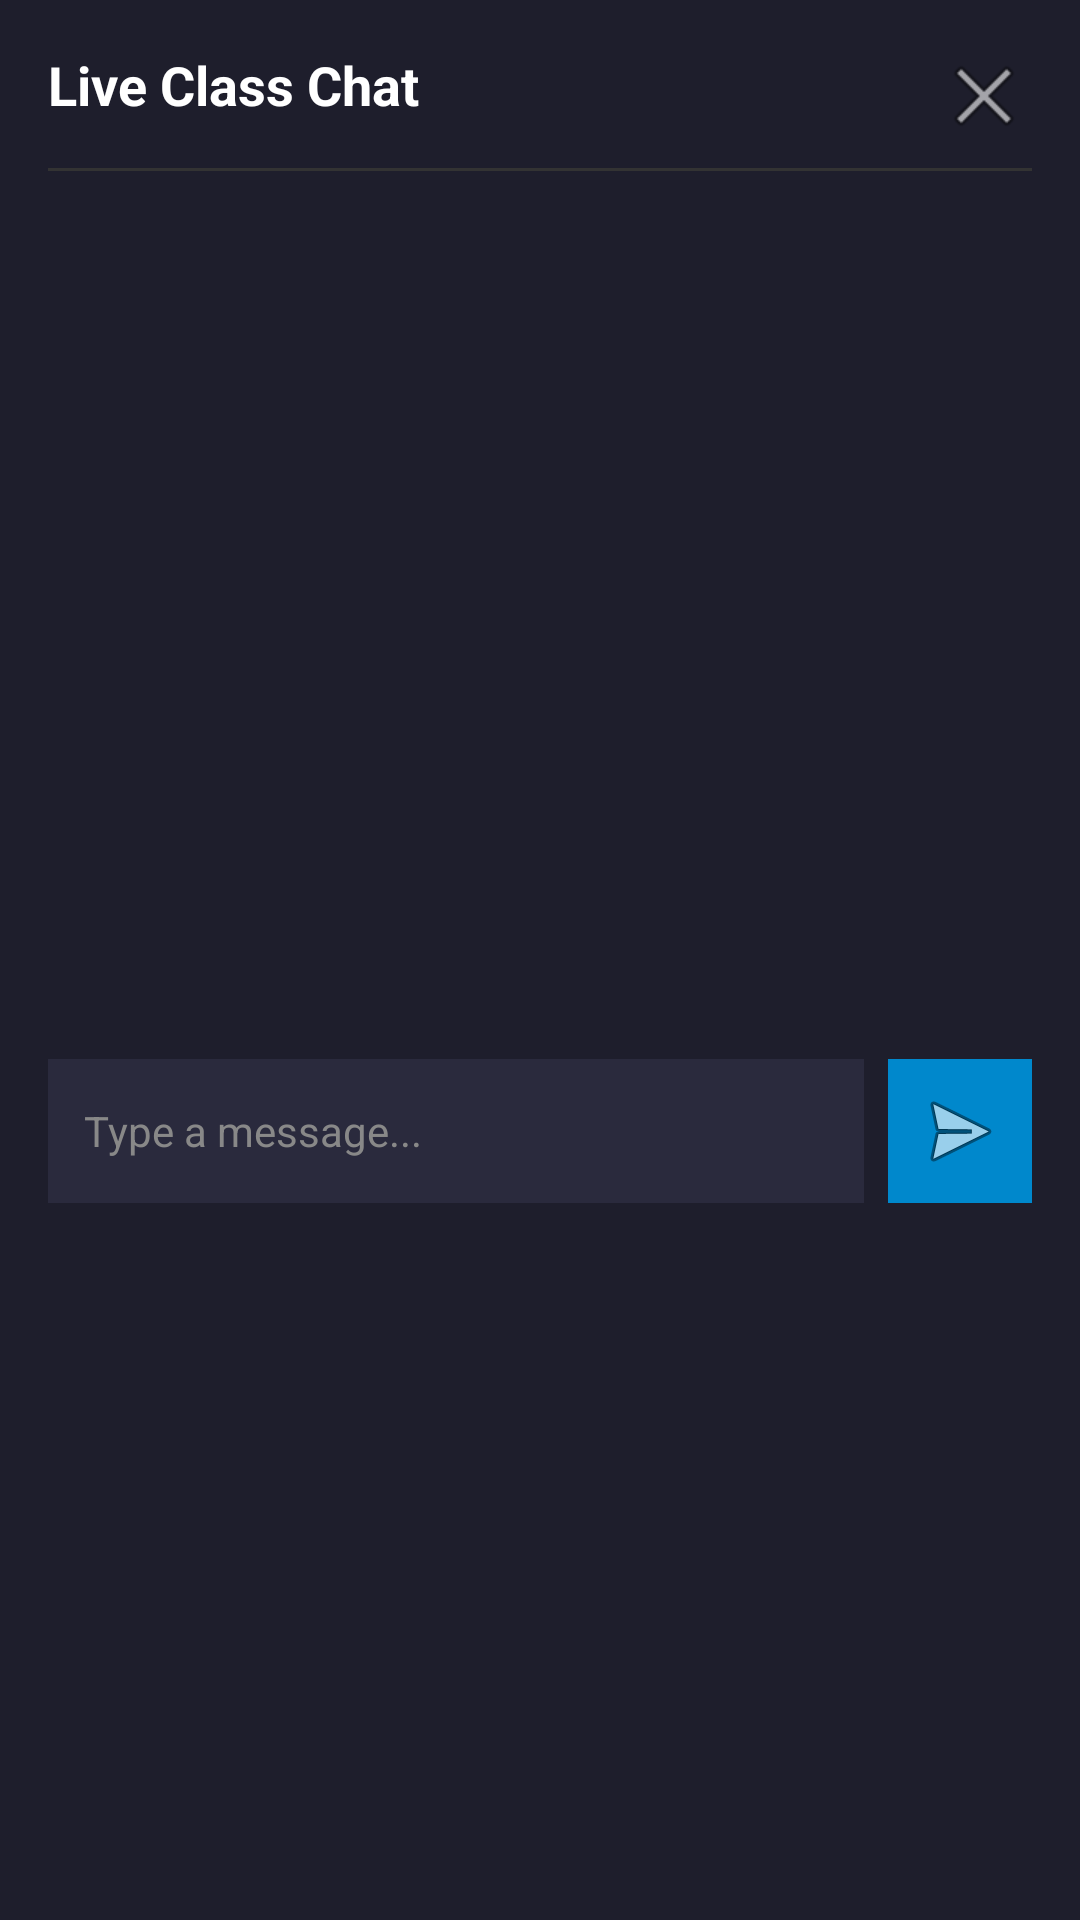

Named icons in this screenshot (1080px×1920px) and their bounding boxes, (x1, y1, x2, y2):
Close: (957, 69, 1011, 123)
Send: (888, 1059, 1032, 1203)
